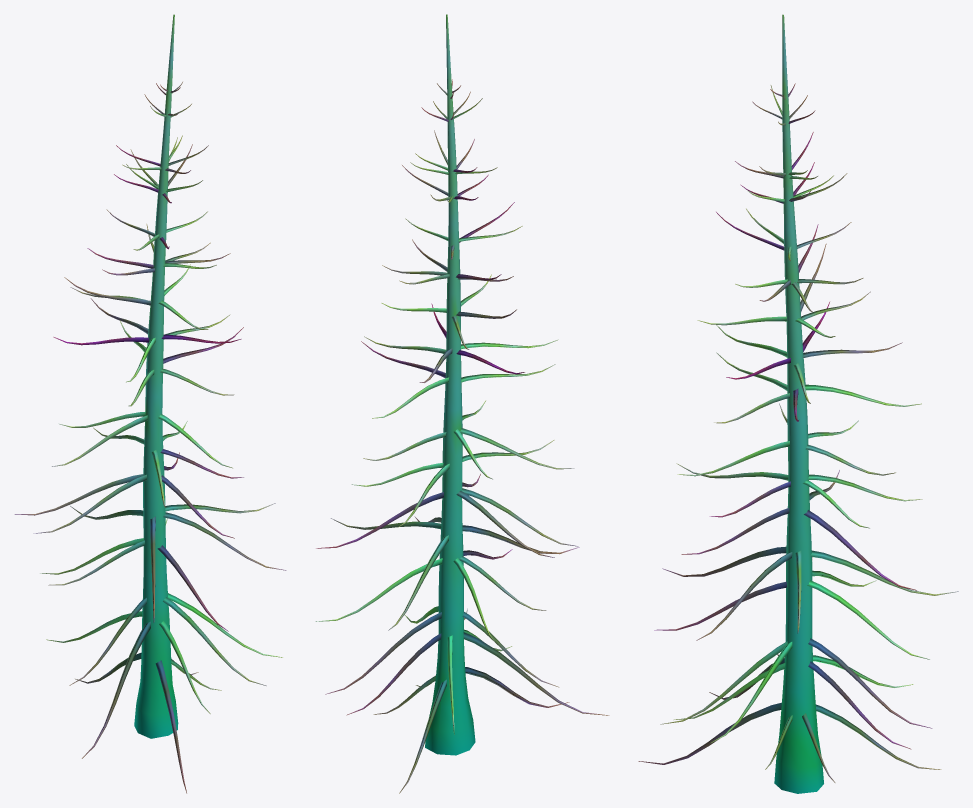
File: spruce-grove-c.glb
The picture shows the model from 3 angles, left to right: view 1: azimuth 30°, elevation 25°; view 2: azimuth 150°, elevation 25°; view 3: azimuth 270°, elevation 25°; orthographic projection. The views are drawn at different scales.
Visible parts, largest first — view 1: bark; view 2: bark; view 3: bark.
Part boxes in pixels (box(x1,y1,x2,y2)): bark: box(14, 14, 286, 793); bark: box(315, 14, 609, 793); bark: box(638, 14, 958, 793).
Size of the model in its own units: 6.75 by 18.97 by 7.11.
